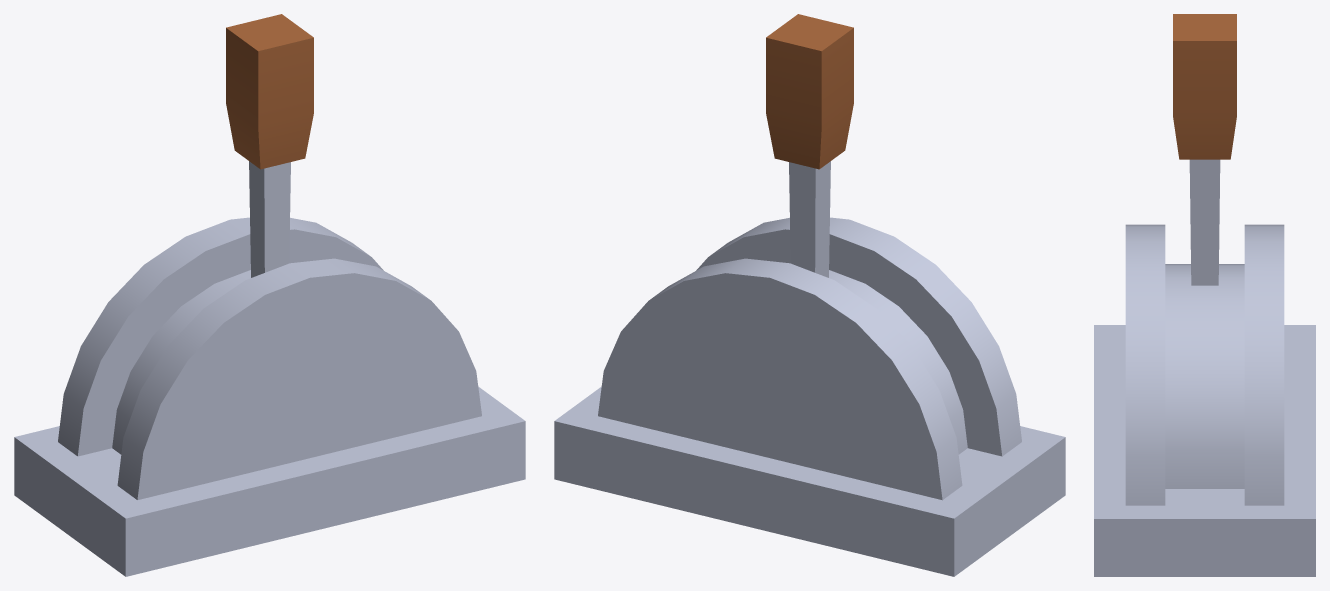
Rendered from lever.glb.
3 renders of one model, left to right at view 1: azimuth 30°, elevation 25°; view 2: azimuth 150°, elevation 25°; view 3: azimuth 270°, elevation 25°, orthographic.
Parts seen in each view (by area): view 1: lever, handle; view 2: lever, handle; view 3: lever, handle.
Part boxes in pixels (x1=…): lever: x1=14, y1=217, x2=525, y2=576; handle: x1=226, y1=14, x2=313, y2=277; lever: x1=554, y1=217, x2=1065, y2=576; handle: x1=766, y1=14, x2=853, y2=277; lever: x1=1094, y1=224, x2=1315, y2=576; handle: x1=1173, y1=14, x2=1236, y2=285.
Bounding box in the file's own units: 0.58 × 0.6303 × 0.28.
